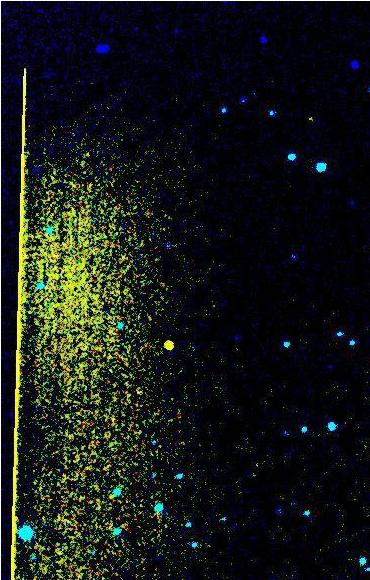star: (154, 330, 184, 360)
